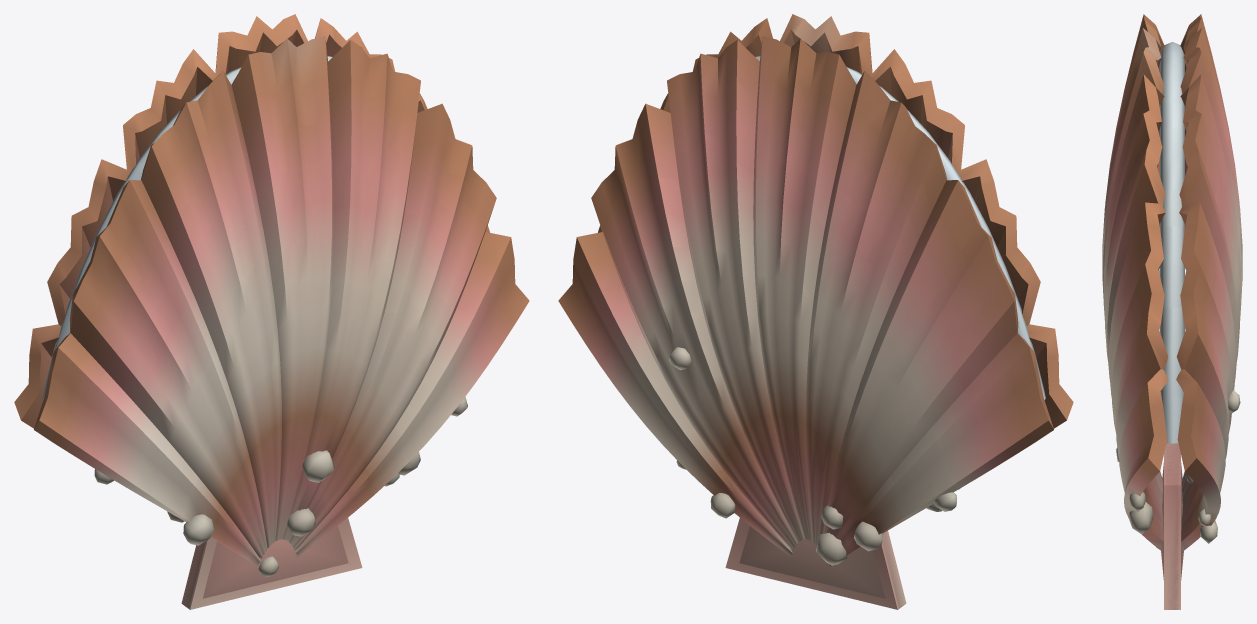
Rendered from shore_clam_seal.glb.
The picture shows the model from 3 angles, left to right: view 1: azimuth 30°, elevation 25°; view 2: azimuth 150°, elevation 25°; view 3: azimuth 270°, elevation 25°; orthographic projection. The views are drawn at different scales.
Parts seen in each view (by area): view 1: shore_clam_seal; view 2: shore_clam_seal; view 3: shore_clam_seal.
Part boxes in pixels (bbox=[...]): shore_clam_seal: bbox=[14, 14, 529, 609]; shore_clam_seal: bbox=[558, 14, 1073, 609]; shore_clam_seal: bbox=[1102, 14, 1242, 609].
Bounding box in the file's own units: 8.9 × 9.69 × 2.27.
